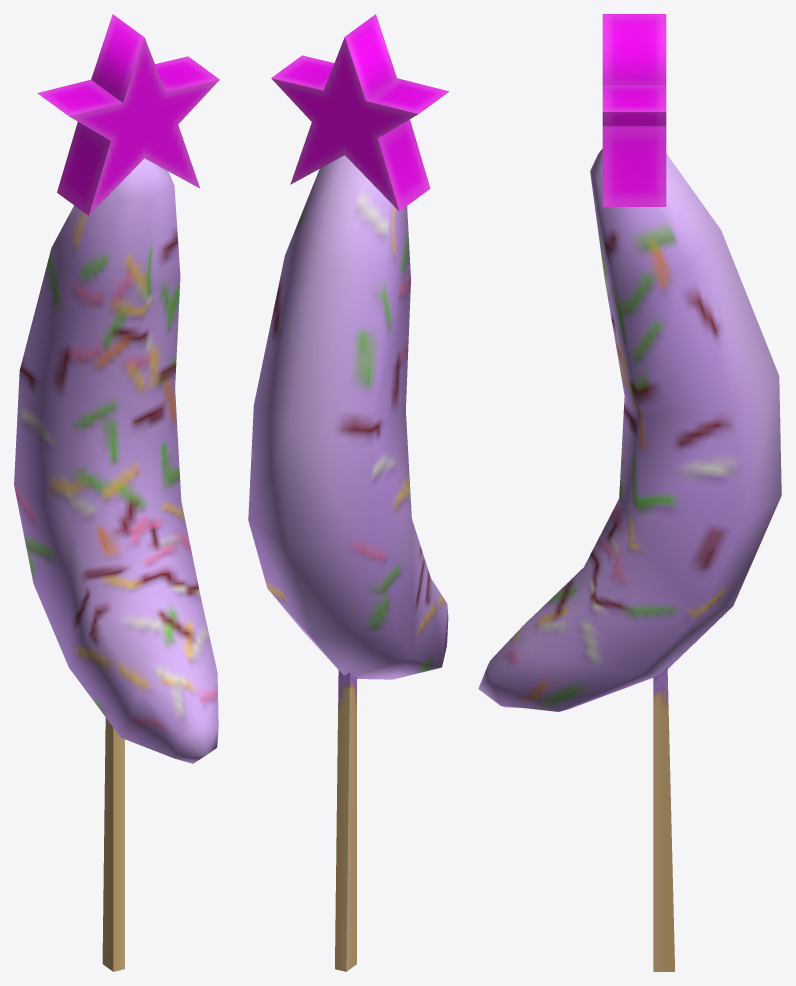
Rendered from jsf_ChocolateBanana_a04_c04.fbx.
3 views of the same model, side by side, from view 1: azimuth 30°, elevation 25°; view 2: azimuth 150°, elevation 25°; view 3: azimuth 270°, elevation 25° (orthographic). The views are drawn at different scales.
Visible parts, largest first — view 1: jsf_ChocolateBanana_a04_c04; view 2: jsf_ChocolateBanana_a04_c04; view 3: jsf_ChocolateBanana_a04_c04.
Part boxes in pixels (x1,y1,x2,y2): jsf_ChocolateBanana_a04_c04: [14, 14, 219, 971]; jsf_ChocolateBanana_a04_c04: [248, 14, 449, 971]; jsf_ChocolateBanana_a04_c04: [478, 14, 781, 971].
Bounding box in the file's own units: 4.51 × 27.18 × 7.83.
